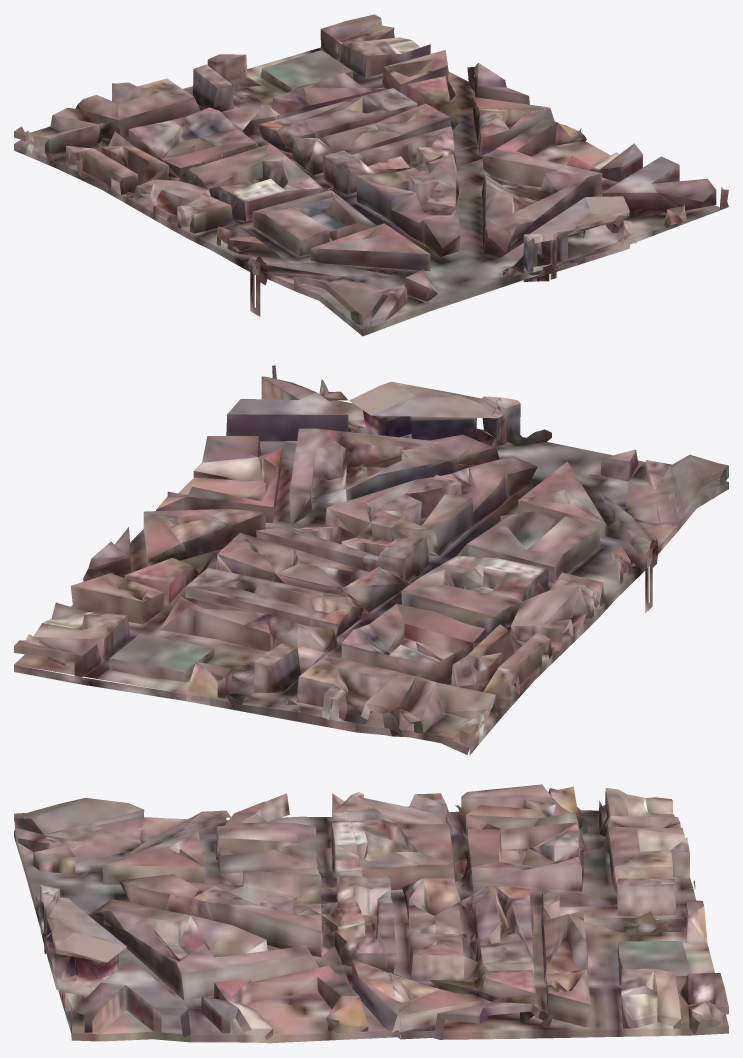
3 views of the same model, one above another, from view 1: azimuth 30°, elevation 25°; view 2: azimuth 150°, elevation 25°; view 3: azimuth 270°, elevation 25° (orthographic). The views are drawn at different scales.
Visible parts, largest first — view 1: Mesh_0; view 2: Mesh_0; view 3: Mesh_0.
Part boxes in pixels (box(x1,y1,x2,y2)): Mesh_0: box(14, 14, 728, 336); Mesh_0: box(14, 365, 728, 755); Mesh_0: box(14, 784, 728, 1043).
Size of the model in its own units: 540 by 96.78 by 659.
Materials: 2 (2 with a texture image).
